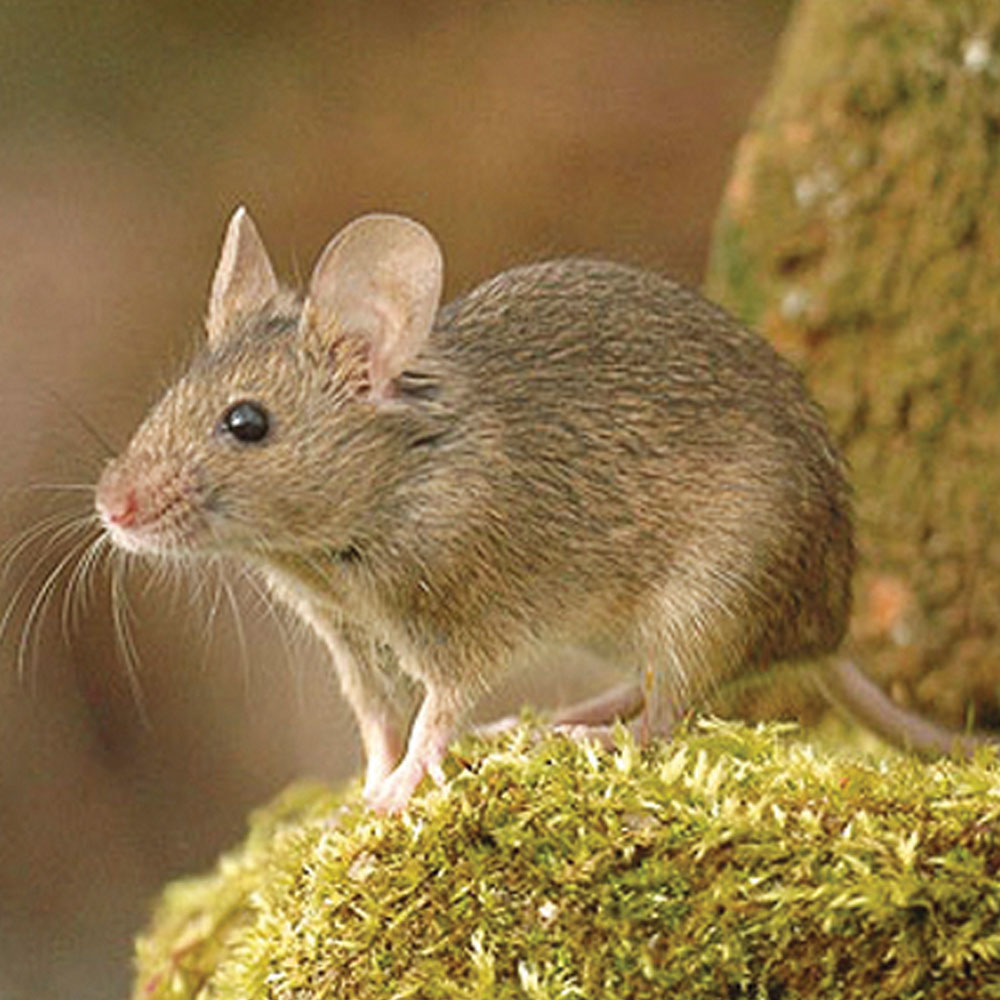mouse: (63, 174, 877, 809)
